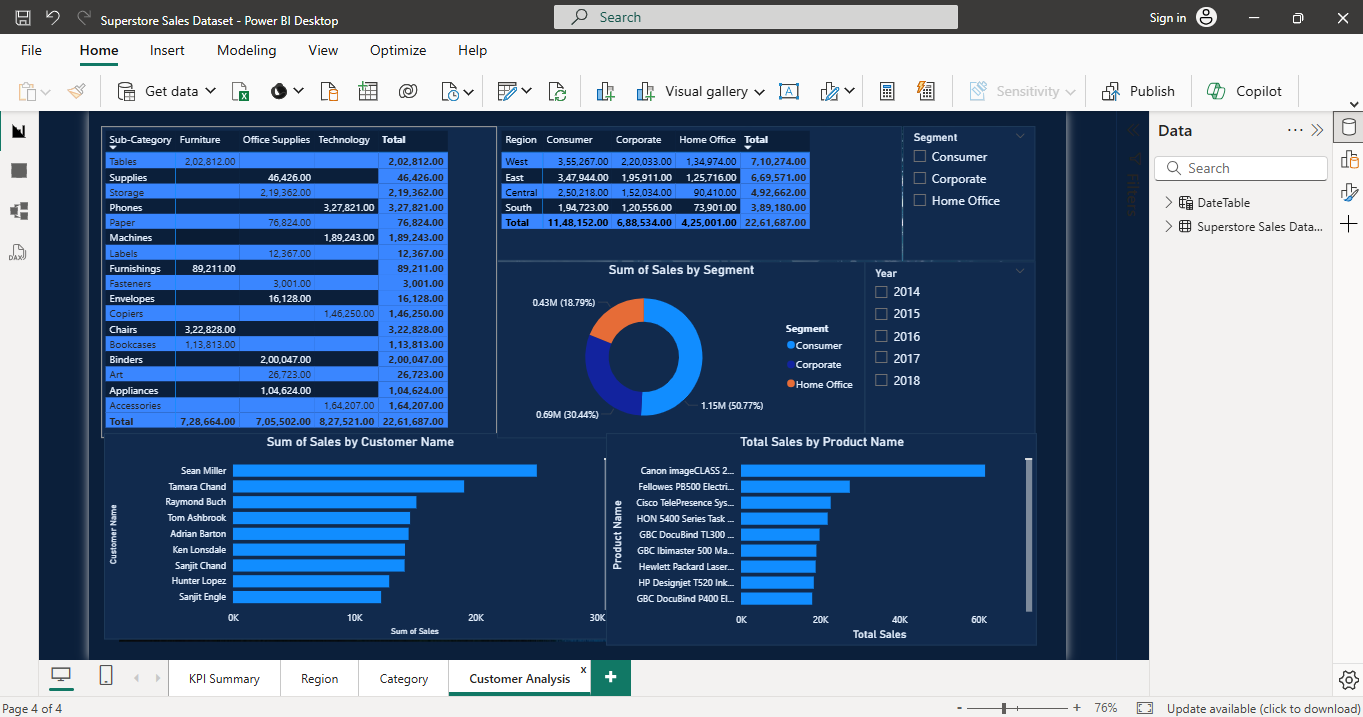

This screenshot's page, from the dashboard's own definition file:
{"tool":"powerbi","page":{"name":"Customer Analysis","canvas":[1280,720],"ordinal":3},"visuals":[{"type":"pivotTable","fields":{"Rows":["Superstore Sales Dataset.Sub-Category"],"Columns":["Superstore Sales Dataset.Category"],"Values":["DateTable.Total Sales"]},"box":[15.9,20.3,519.5,408.1],"z":0},{"type":"slicer","fields":{"Values":["Superstore Sales Dataset.Segment"]},"box":[1066.5,20.3,173.7,176.5],"z":1000},{"type":"clusteredBarChart","fields":{"Category":["Superstore Sales Dataset.Customer Name"],"Y":["Sum(Superstore Sales Dataset.Sales)"]},"box":[20.3,422.6,670,270.6],"z":2000},{"type":"donutChart","fields":{"Category":["Superstore Sales Dataset.Segment"],"Y":["Sum(Superstore Sales Dataset.Sales)"]},"box":[535.4,196.8,481.9,231.5],"z":3000},{"type":"pivotTable","fields":{"Rows":["Superstore Sales Dataset.Region"],"Columns":["Superstore Sales Dataset.Segment"],"Values":["DateTable.Total Sales"]},"box":[535.4,20.3,531.1,176.5],"z":4000},{"type":"slicer","fields":{"Values":["DateTable.Year"]},"box":[1016.6,197.2,223.7,226.4],"z":5000},{"type":"clusteredBarChart","fields":{"Category":["Superstore Sales Dataset.Product Name"],"Y":["DateTable.Total Sales"]},"box":[677.2,422.6,564.4,277.8],"z":6000}]}

Visuals, with their boxes on the page's 1280x720 design canvas (x1, y1, x2, y2). These are canvas units, not pixel positions in the 1363x717 screenshot, which may show the page scaled, cropped or inside an application window:
pivotTable - Superstore Sales Dataset.Sub-Category x Superstore Sales Dataset.Category: left=16, top=20, right=535, bottom=428
slicer - Superstore Sales Dataset.Segment: left=1066, top=20, right=1240, bottom=197
clusteredBarChart - Superstore Sales Dataset.Customer Name x Sum(Superstore Sales Dataset.Sales): left=20, top=423, right=690, bottom=693
donutChart - Superstore Sales Dataset.Segment x Sum(Superstore Sales Dataset.Sales): left=535, top=197, right=1017, bottom=428
pivotTable - Superstore Sales Dataset.Region x Superstore Sales Dataset.Segment: left=535, top=20, right=1066, bottom=197
slicer - DateTable.Year: left=1017, top=197, right=1240, bottom=424
clusteredBarChart - Superstore Sales Dataset.Product Name x DateTable.Total Sales: left=677, top=423, right=1242, bottom=700
